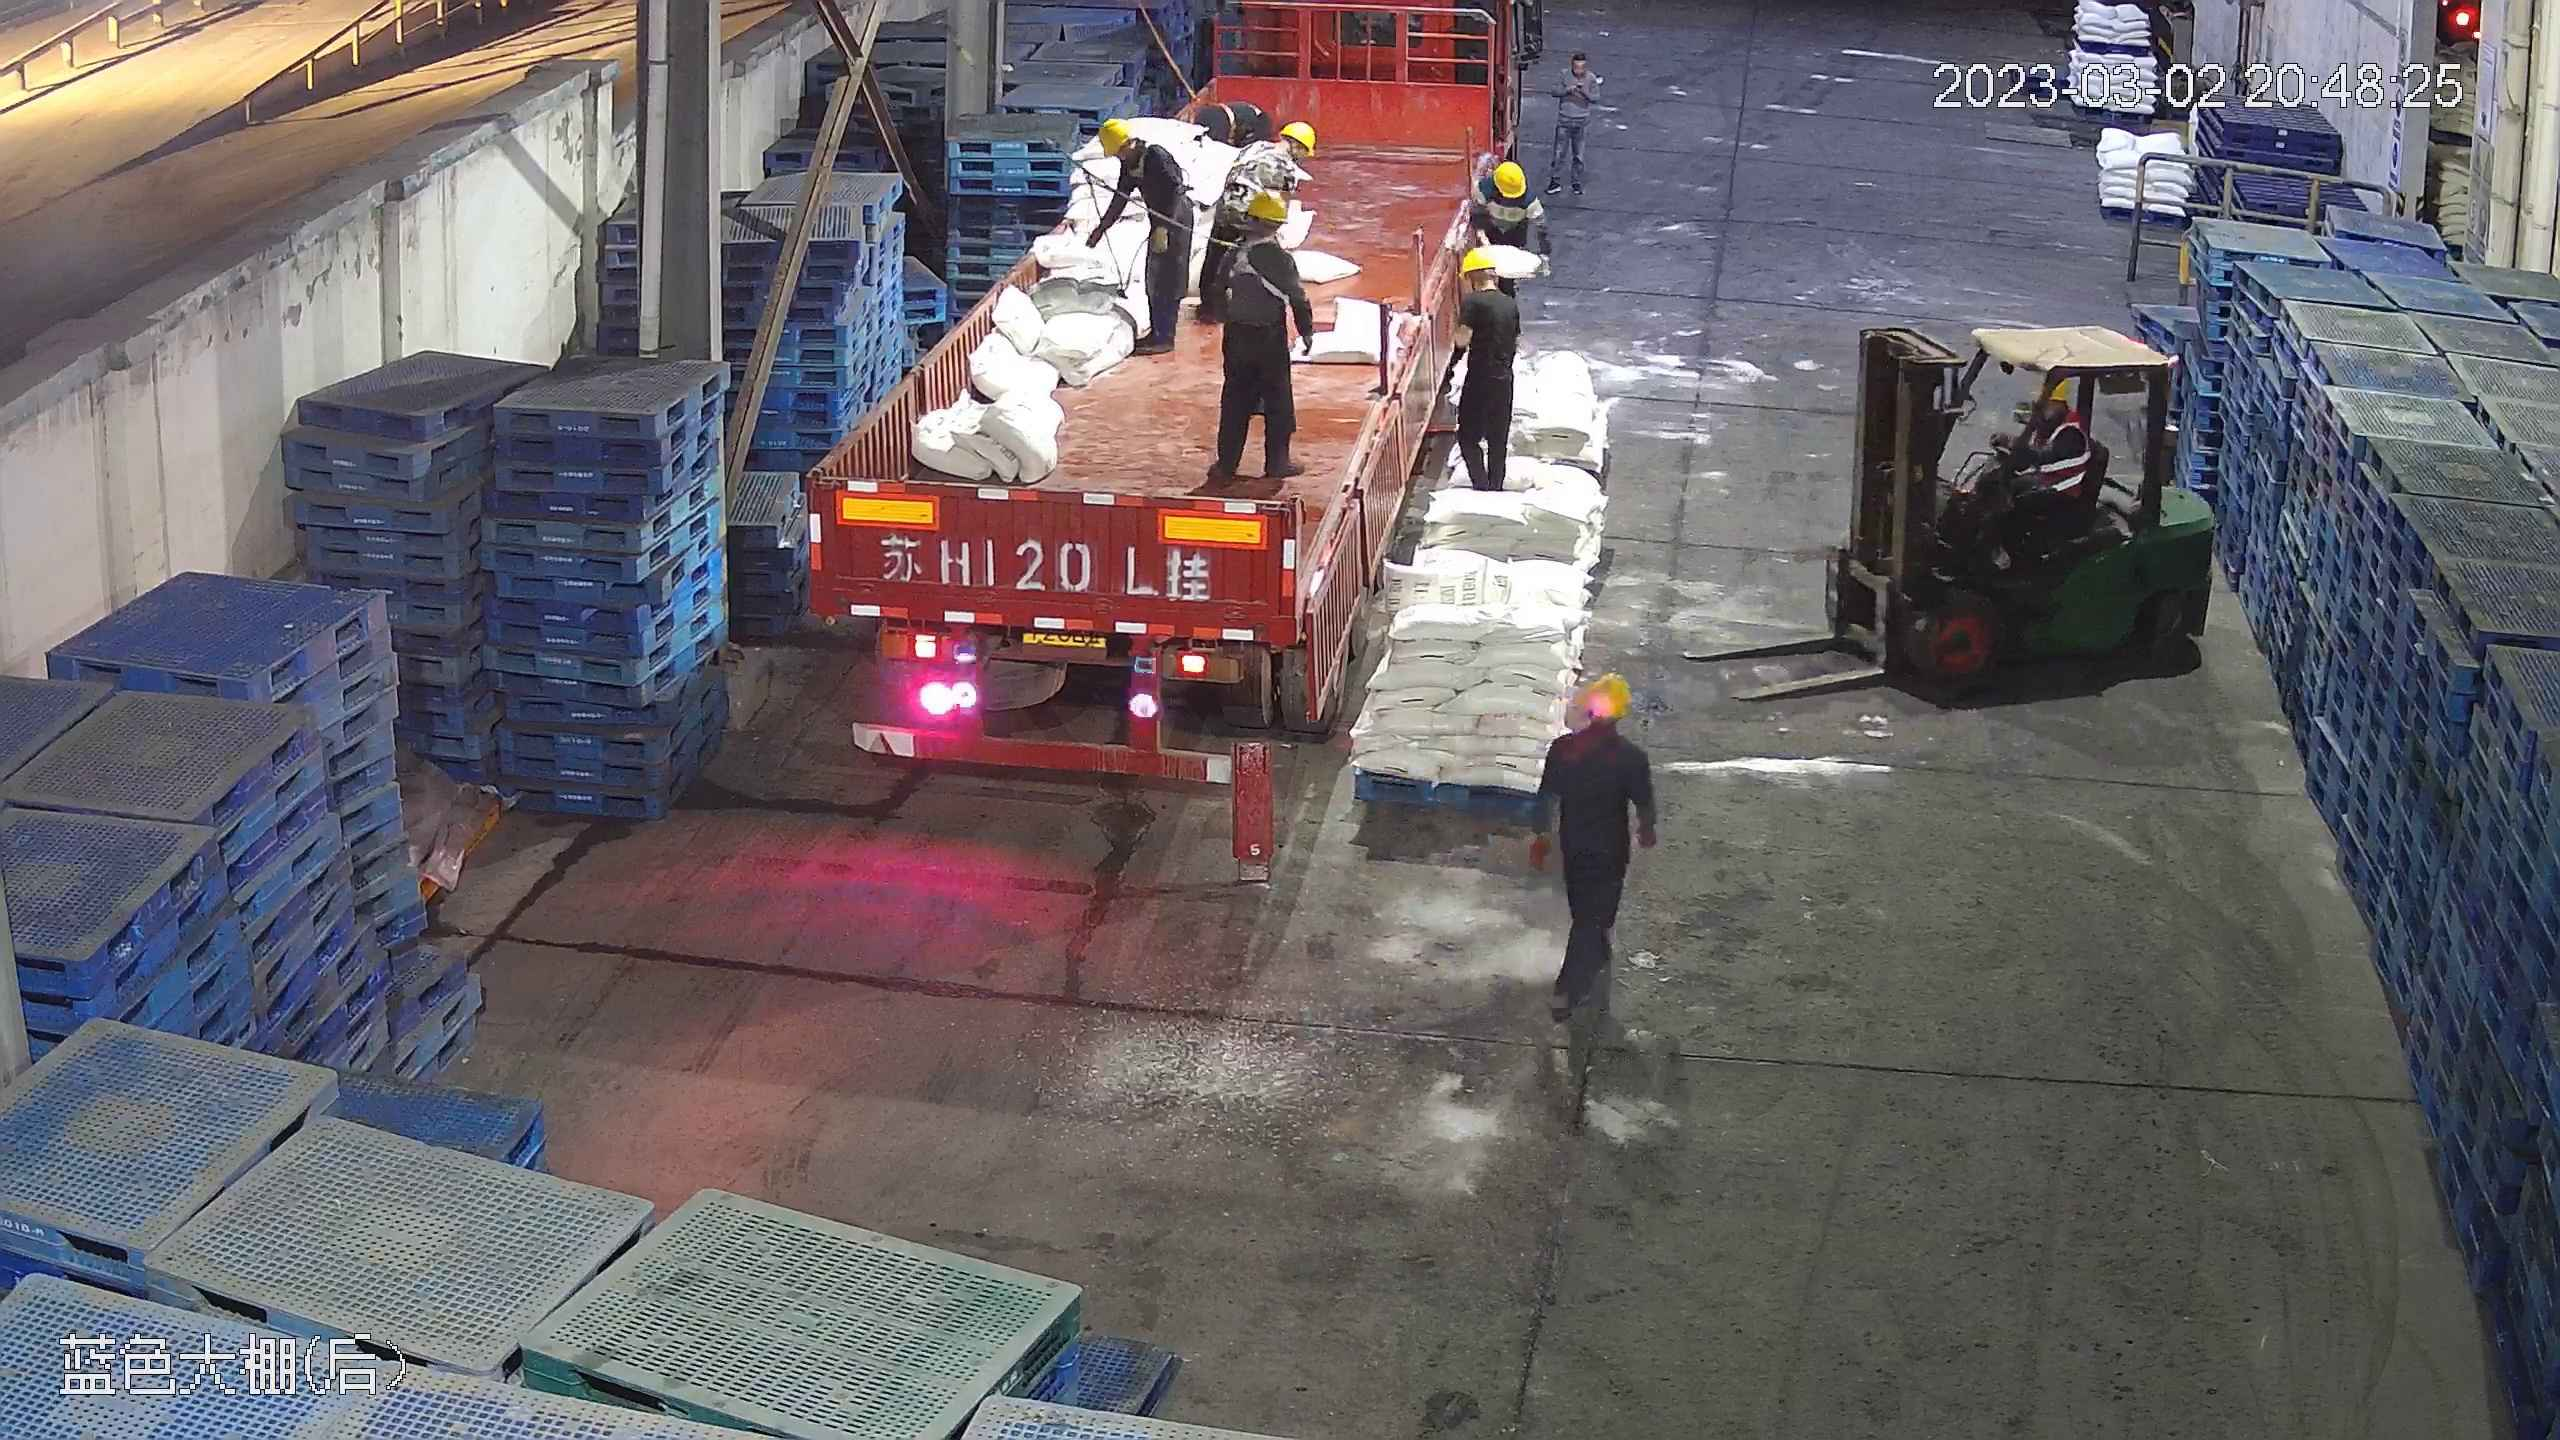belt: (1210, 221, 1284, 293), (1108, 130, 1180, 198), (1184, 86, 1240, 137), (1225, 140, 1282, 189)
head: (1541, 667, 1650, 790), (1207, 188, 1301, 279), (1092, 118, 1178, 198), (1460, 158, 1546, 236), (1219, 122, 1309, 187), (1452, 248, 1521, 326), (2025, 377, 2089, 453), (1553, 46, 1603, 98)
helmet: (1580, 668, 1635, 717), (1239, 188, 1287, 222), (1094, 118, 1135, 155), (1491, 158, 1527, 200), (1285, 125, 1317, 157), (1457, 248, 1494, 275)
people: (1536, 665, 1660, 1015), (1193, 187, 1315, 486), (1080, 116, 1196, 354), (1970, 373, 2098, 573), (1442, 242, 1522, 485), (1544, 39, 1603, 196), (1448, 245, 1523, 355)
truck: (805, 35, 1483, 783)
